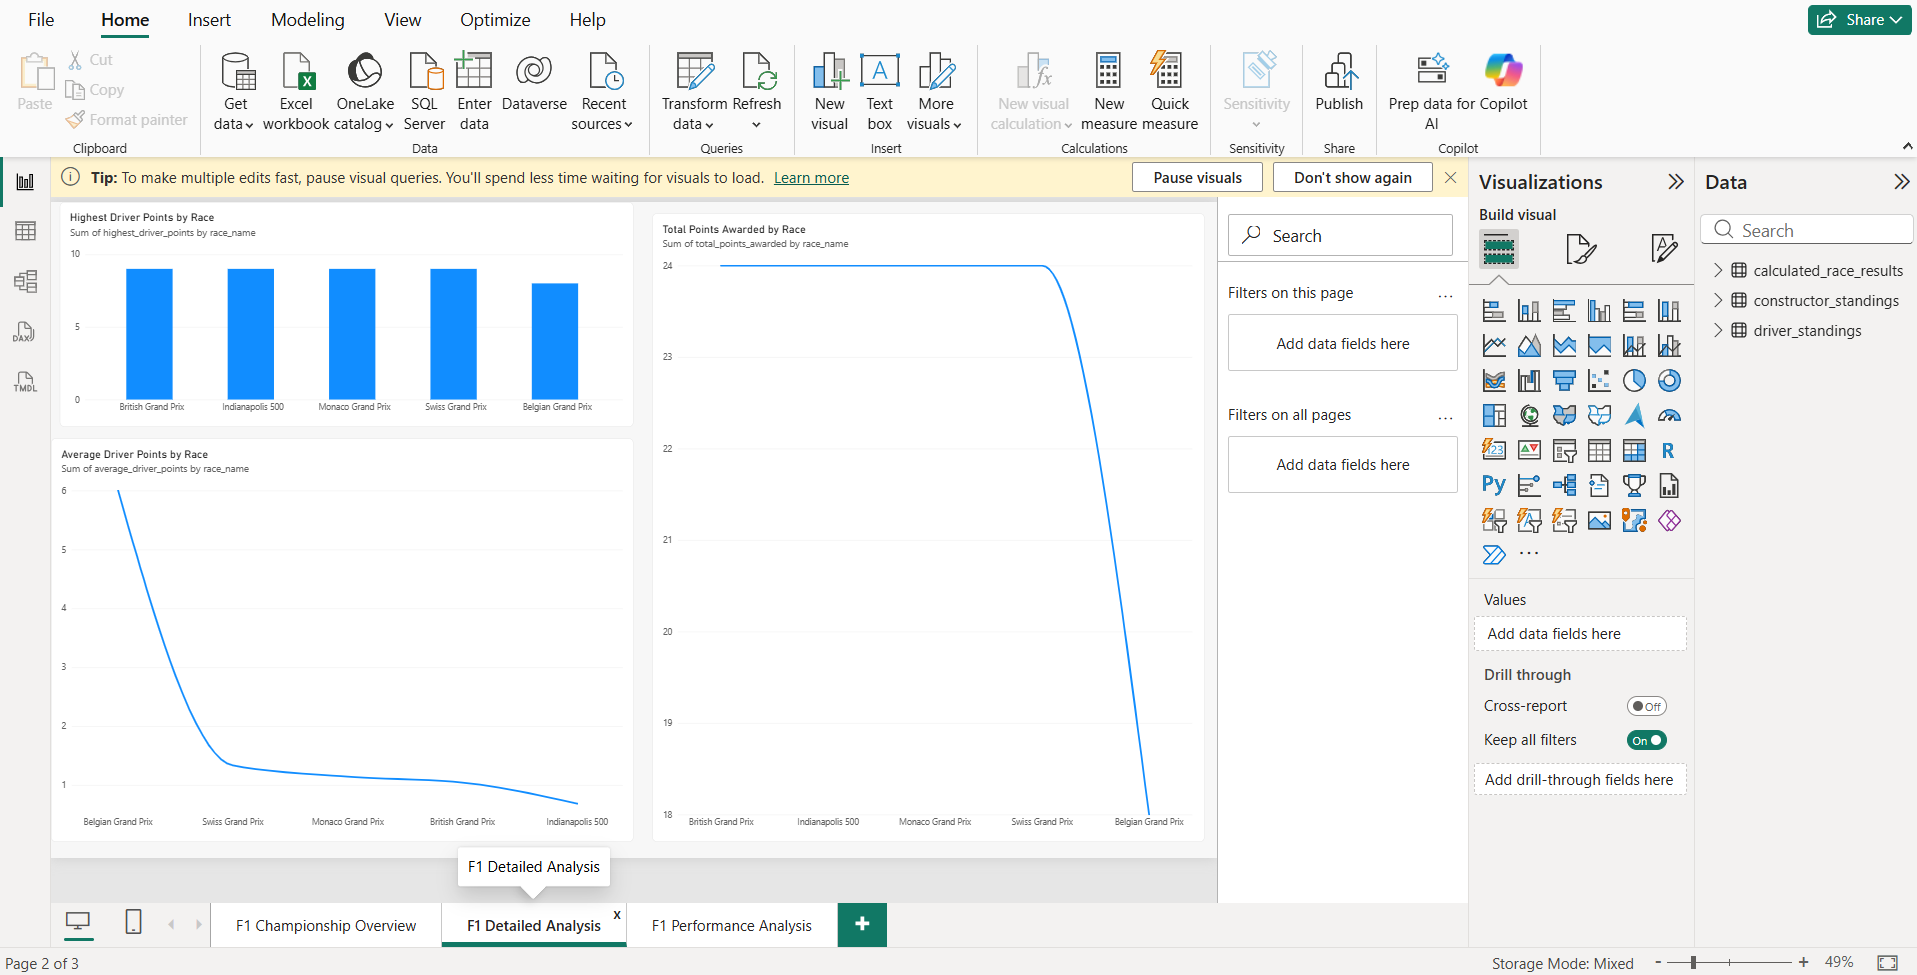

This screenshot's page, from the dashboard's own definition file:
{"tool":"powerbi","page":{"name":"F1 Detailed Analysis","canvas":[1920,1080],"ordinal":1},"visuals":[{"type":"clusteredColumnChart","title":"Highest Driver Points by Race","fields":{"Category":["calculated_race_results.race_name"],"Y":["Sum(calculated_race_results.highest_driver_points)"]},"box":[14.4,0,944.8,370.5],"z":0},{"type":"lineChart","title":"Total Points Awarded by Race","fields":{"Category":["calculated_race_results.race_name"],"Y":["Sum(calculated_race_results.total_points_awarded)"]},"box":[990.1,18.5,909.8,1035.3],"z":1},{"type":"lineChart","title":"Average Driver Points by Race","fields":{"Category":["calculated_race_results.race_name"],"Y":["Sum(calculated_race_results.average_driver_points)"]},"box":[0,389,959.2,664.8],"z":2}]}

Visuals, with their boxes on the page's 1920x1080 design canvas (x1, y1, x2, y2). These are canvas units, not pixel positions in the 1917x975 screenshot, which may show the page scaled, cropped or inside an application window:
"Highest Driver Points by Race" clusteredColumnChart: box(14, 0, 959, 370)
"Total Points Awarded by Race" lineChart: box(990, 18, 1900, 1054)
"Average Driver Points by Race" lineChart: box(0, 389, 959, 1054)
